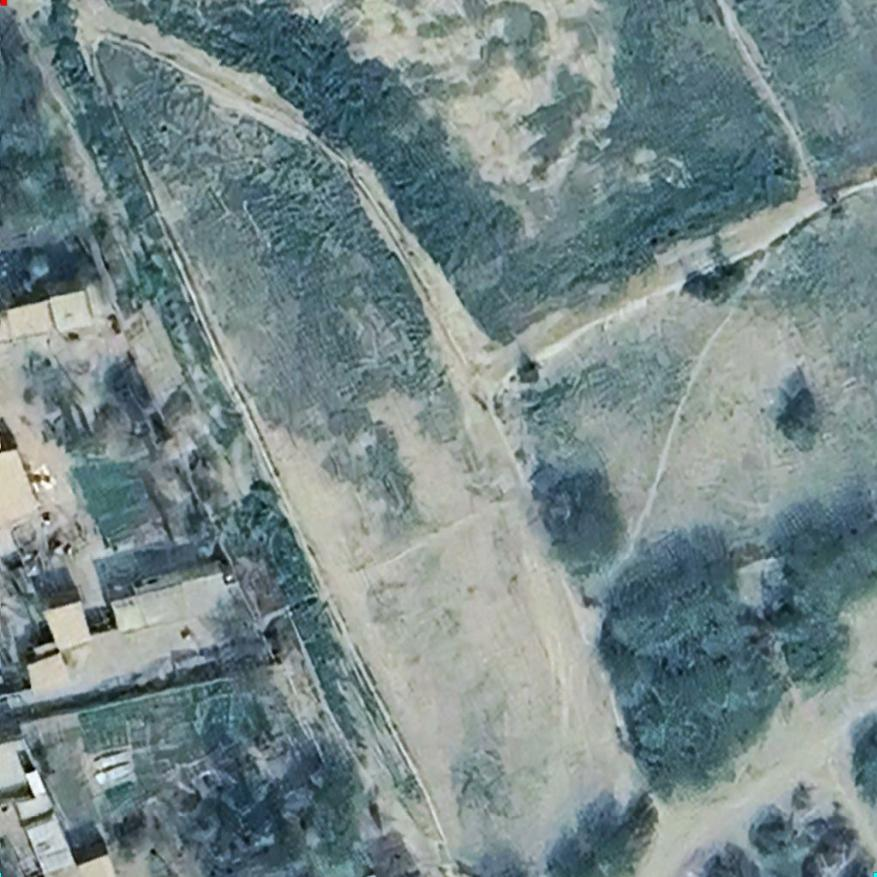Solarpanel: (95, 765, 136, 788), (92, 748, 131, 772)
